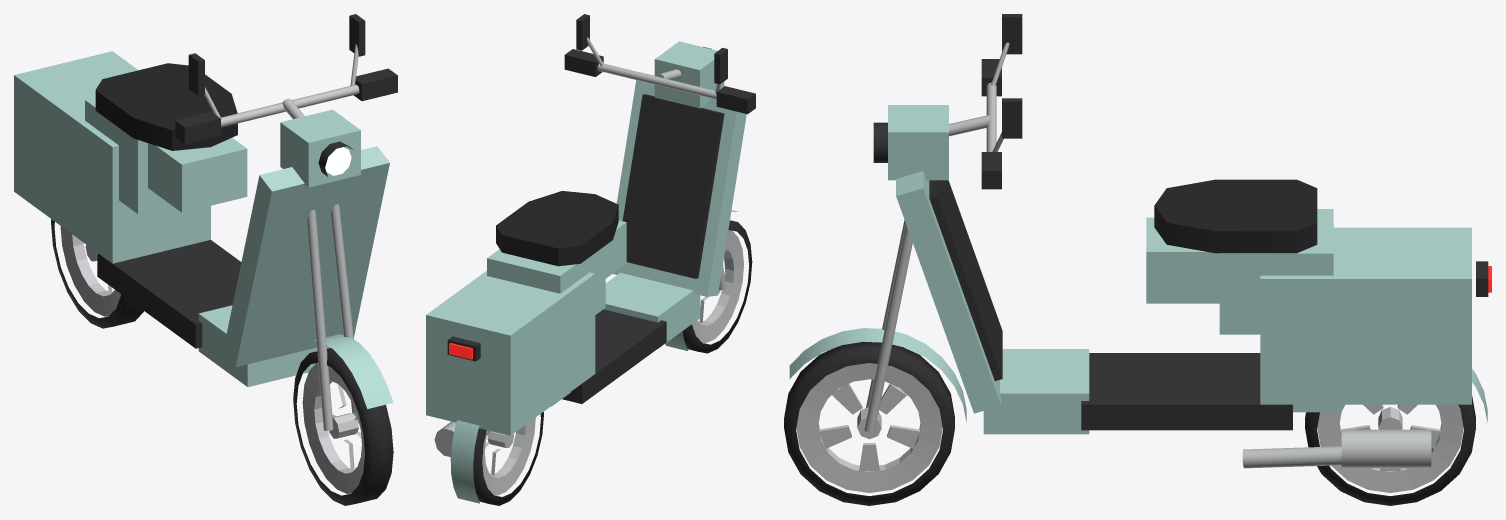
File: scooter.glb
3 views of the same model, side by side, from view 1: azimuth 30°, elevation 25°; view 2: azimuth 150°, elevation 25°; view 3: azimuth 270°, elevation 25° (orthographic). The views are drawn at different scales.
Parts seen in each view (by area): view 1: scooter_body, Wheel_F, Wheel_R; view 2: scooter_body, Wheel_R, Wheel_F; view 3: scooter_body, Wheel_F, Wheel_R.
Part boxes in pixels (box(x1,y1,x2,y2)): scooter_body: box(14, 14, 397, 430); Wheel_F: box(293, 348, 393, 505); Wheel_R: box(51, 219, 143, 328); scooter_body: box(426, 14, 755, 503); Wheel_R: box(473, 412, 543, 505); Wheel_F: box(682, 220, 752, 353); scooter_body: box(789, 14, 1491, 468); Wheel_F: box(784, 341, 954, 505); Wheel_R: box(1305, 396, 1475, 505).
Size of the model in its own units: 0.0325 by 0.06 by 0.087.
Materials: 4 (1 with a texture image).
